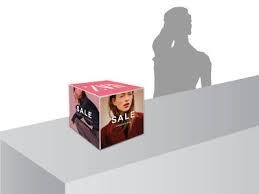cube: (70, 80, 145, 151)
